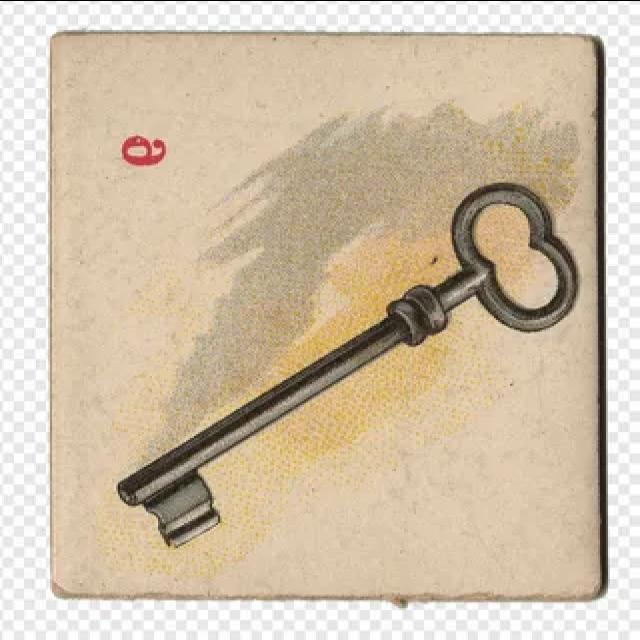key: (103, 172, 590, 550)
